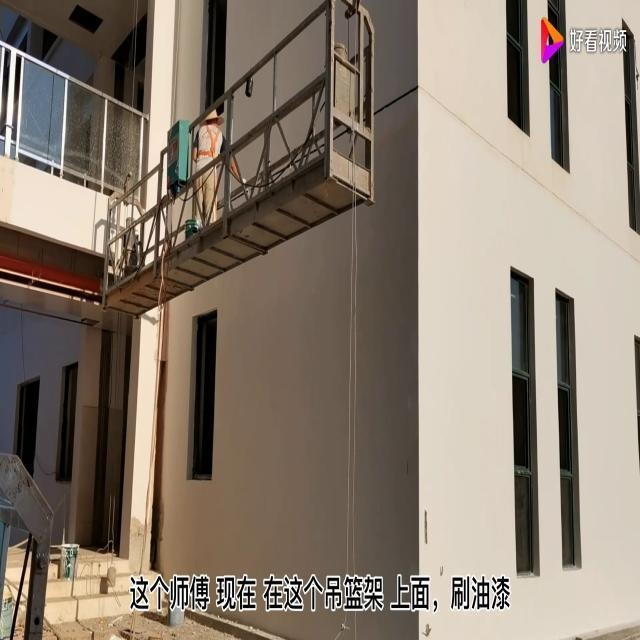Arnes_seguridad: (197, 121, 222, 161)
